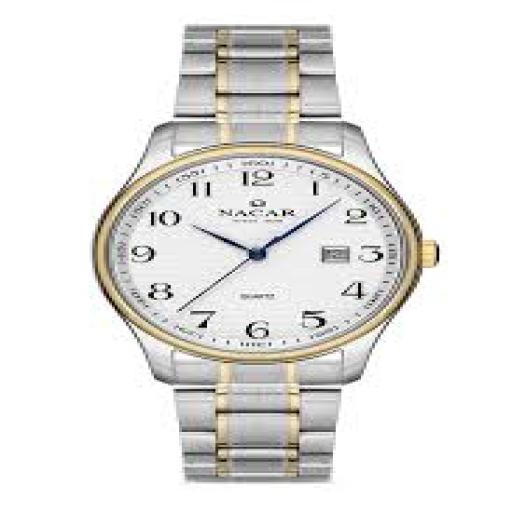KolSaati: (54, 10, 465, 484)
